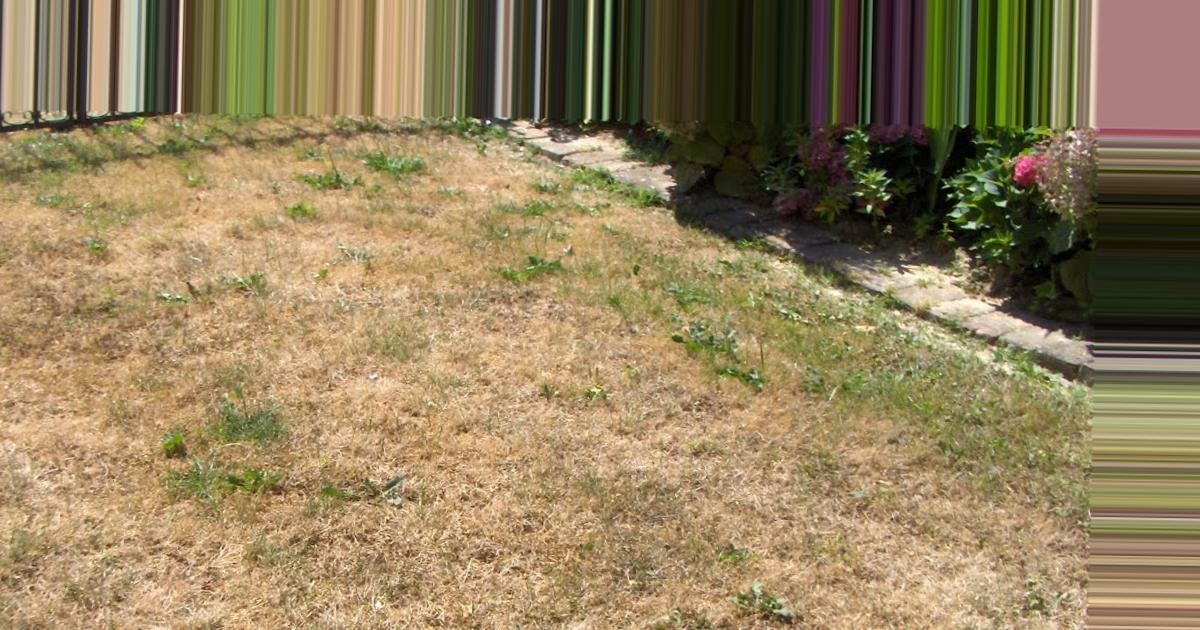patch: (64, 194, 548, 599), (517, 321, 837, 611), (827, 442, 1027, 612), (180, 152, 441, 194)
